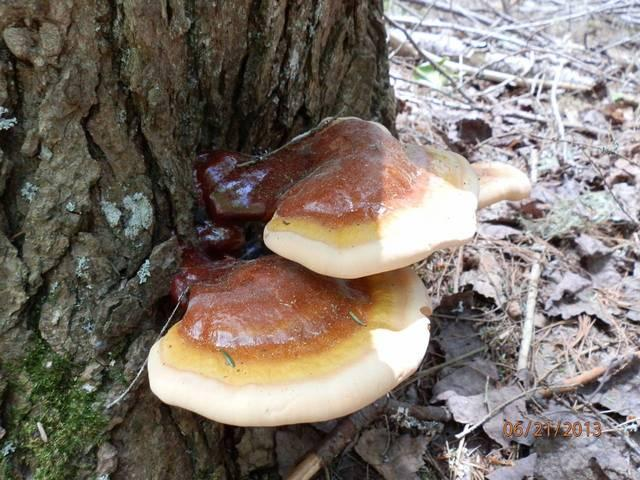poisonous_mushroom: (145, 114, 531, 427)
